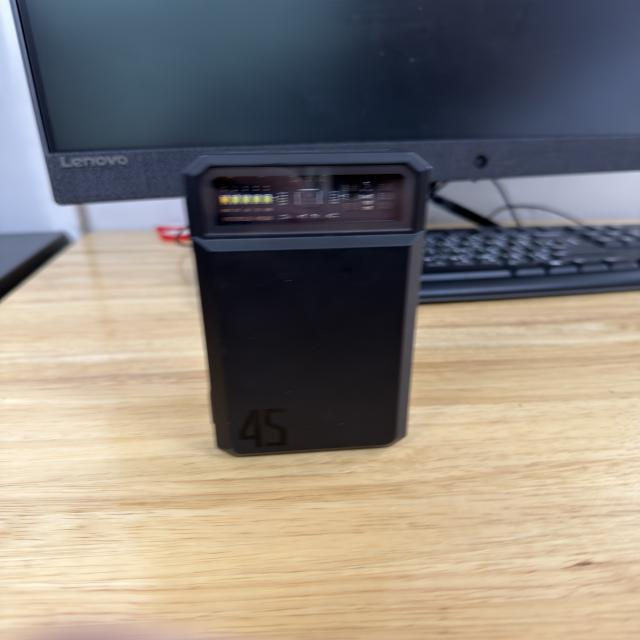power bank: (177, 145, 438, 455)
